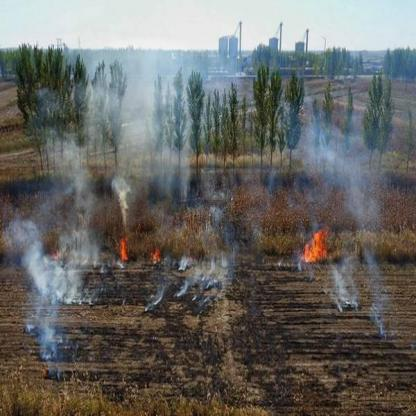fire: (301, 223, 333, 262), (117, 233, 128, 264), (47, 247, 63, 265), (149, 247, 159, 259)
smoke: (327, 151, 367, 218), (28, 248, 68, 303), (115, 178, 128, 226), (71, 168, 82, 194)
